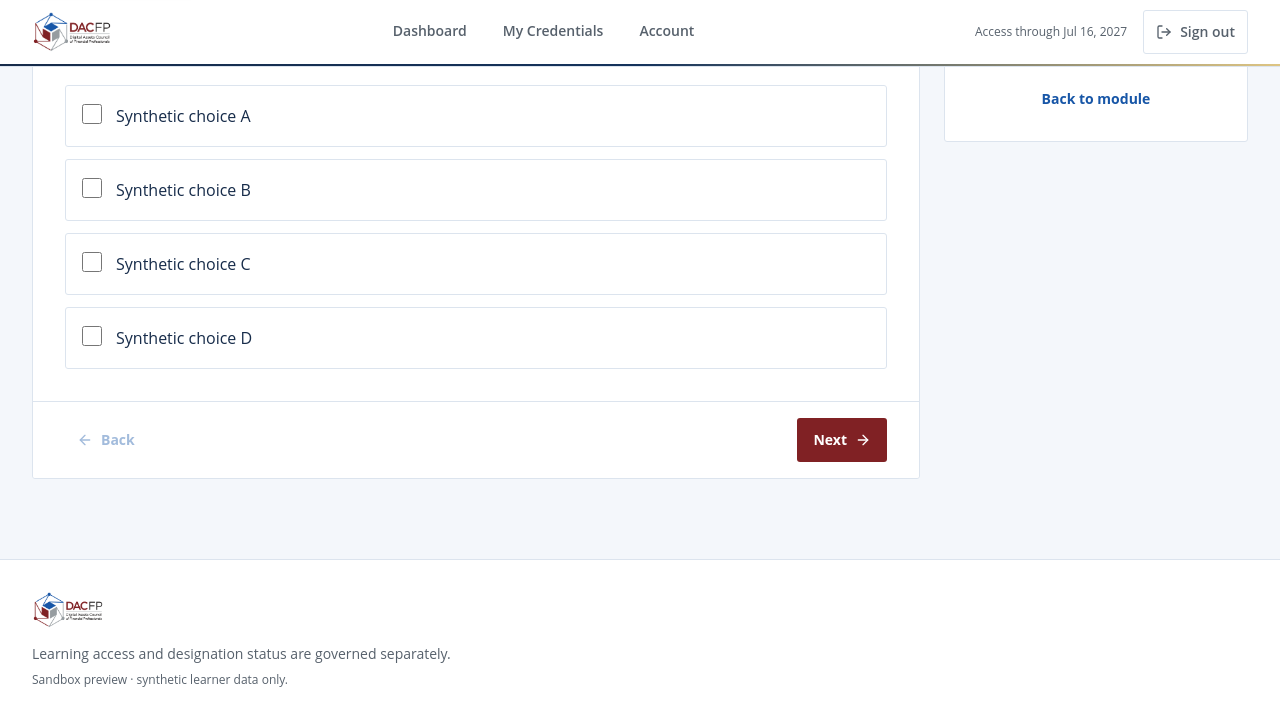
Test: D0 route shell › uses checkboxes only when select_kind is multi
(page scrolled)
Check: the text "Select all that apply" is shown, box [65,48,242,65]
Check: the number of checkboxes is 4, box [82,104,102,124]; [82,178,102,198]; [82,252,102,272]; [82,326,102,346]
Click the button "Next" at (842, 440), box [798,418,887,462]
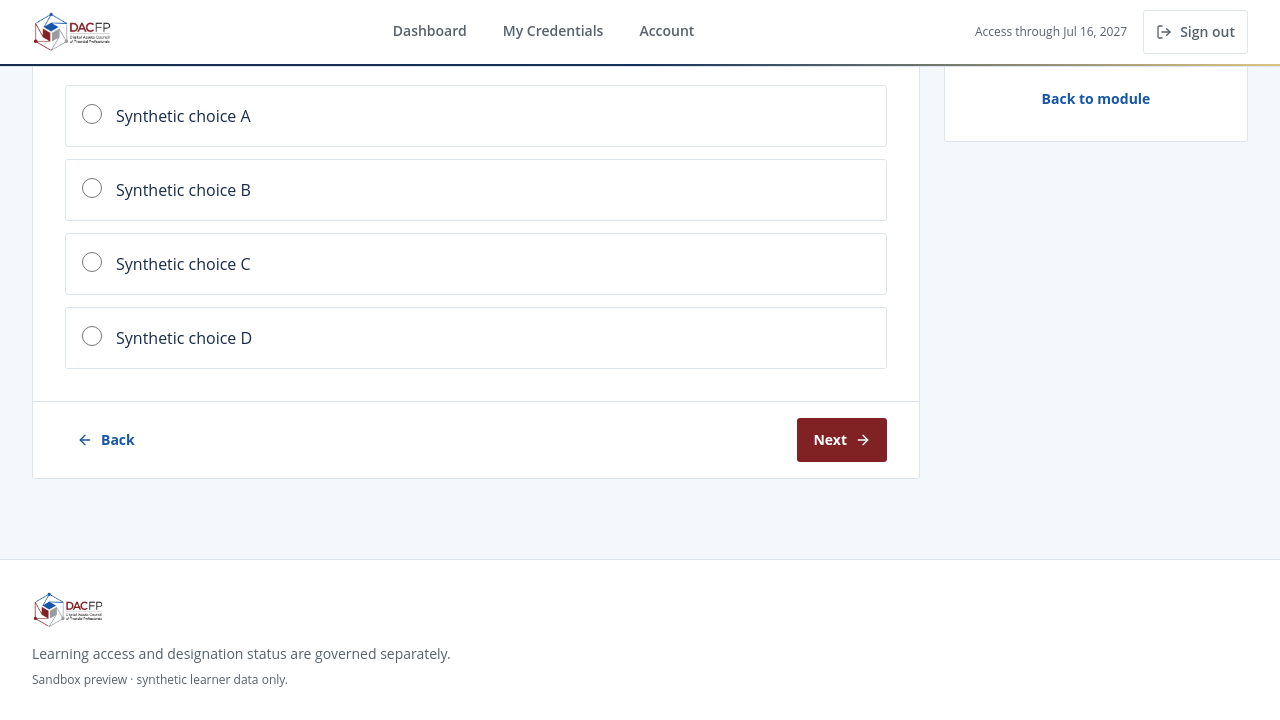
Check: the text "Select one answer" is shown, box [65,48,220,65]
Check: the number of radio buttons is 4, box [82,104,102,124]; [82,178,102,198]; [82,252,102,272]; [82,326,102,346]
